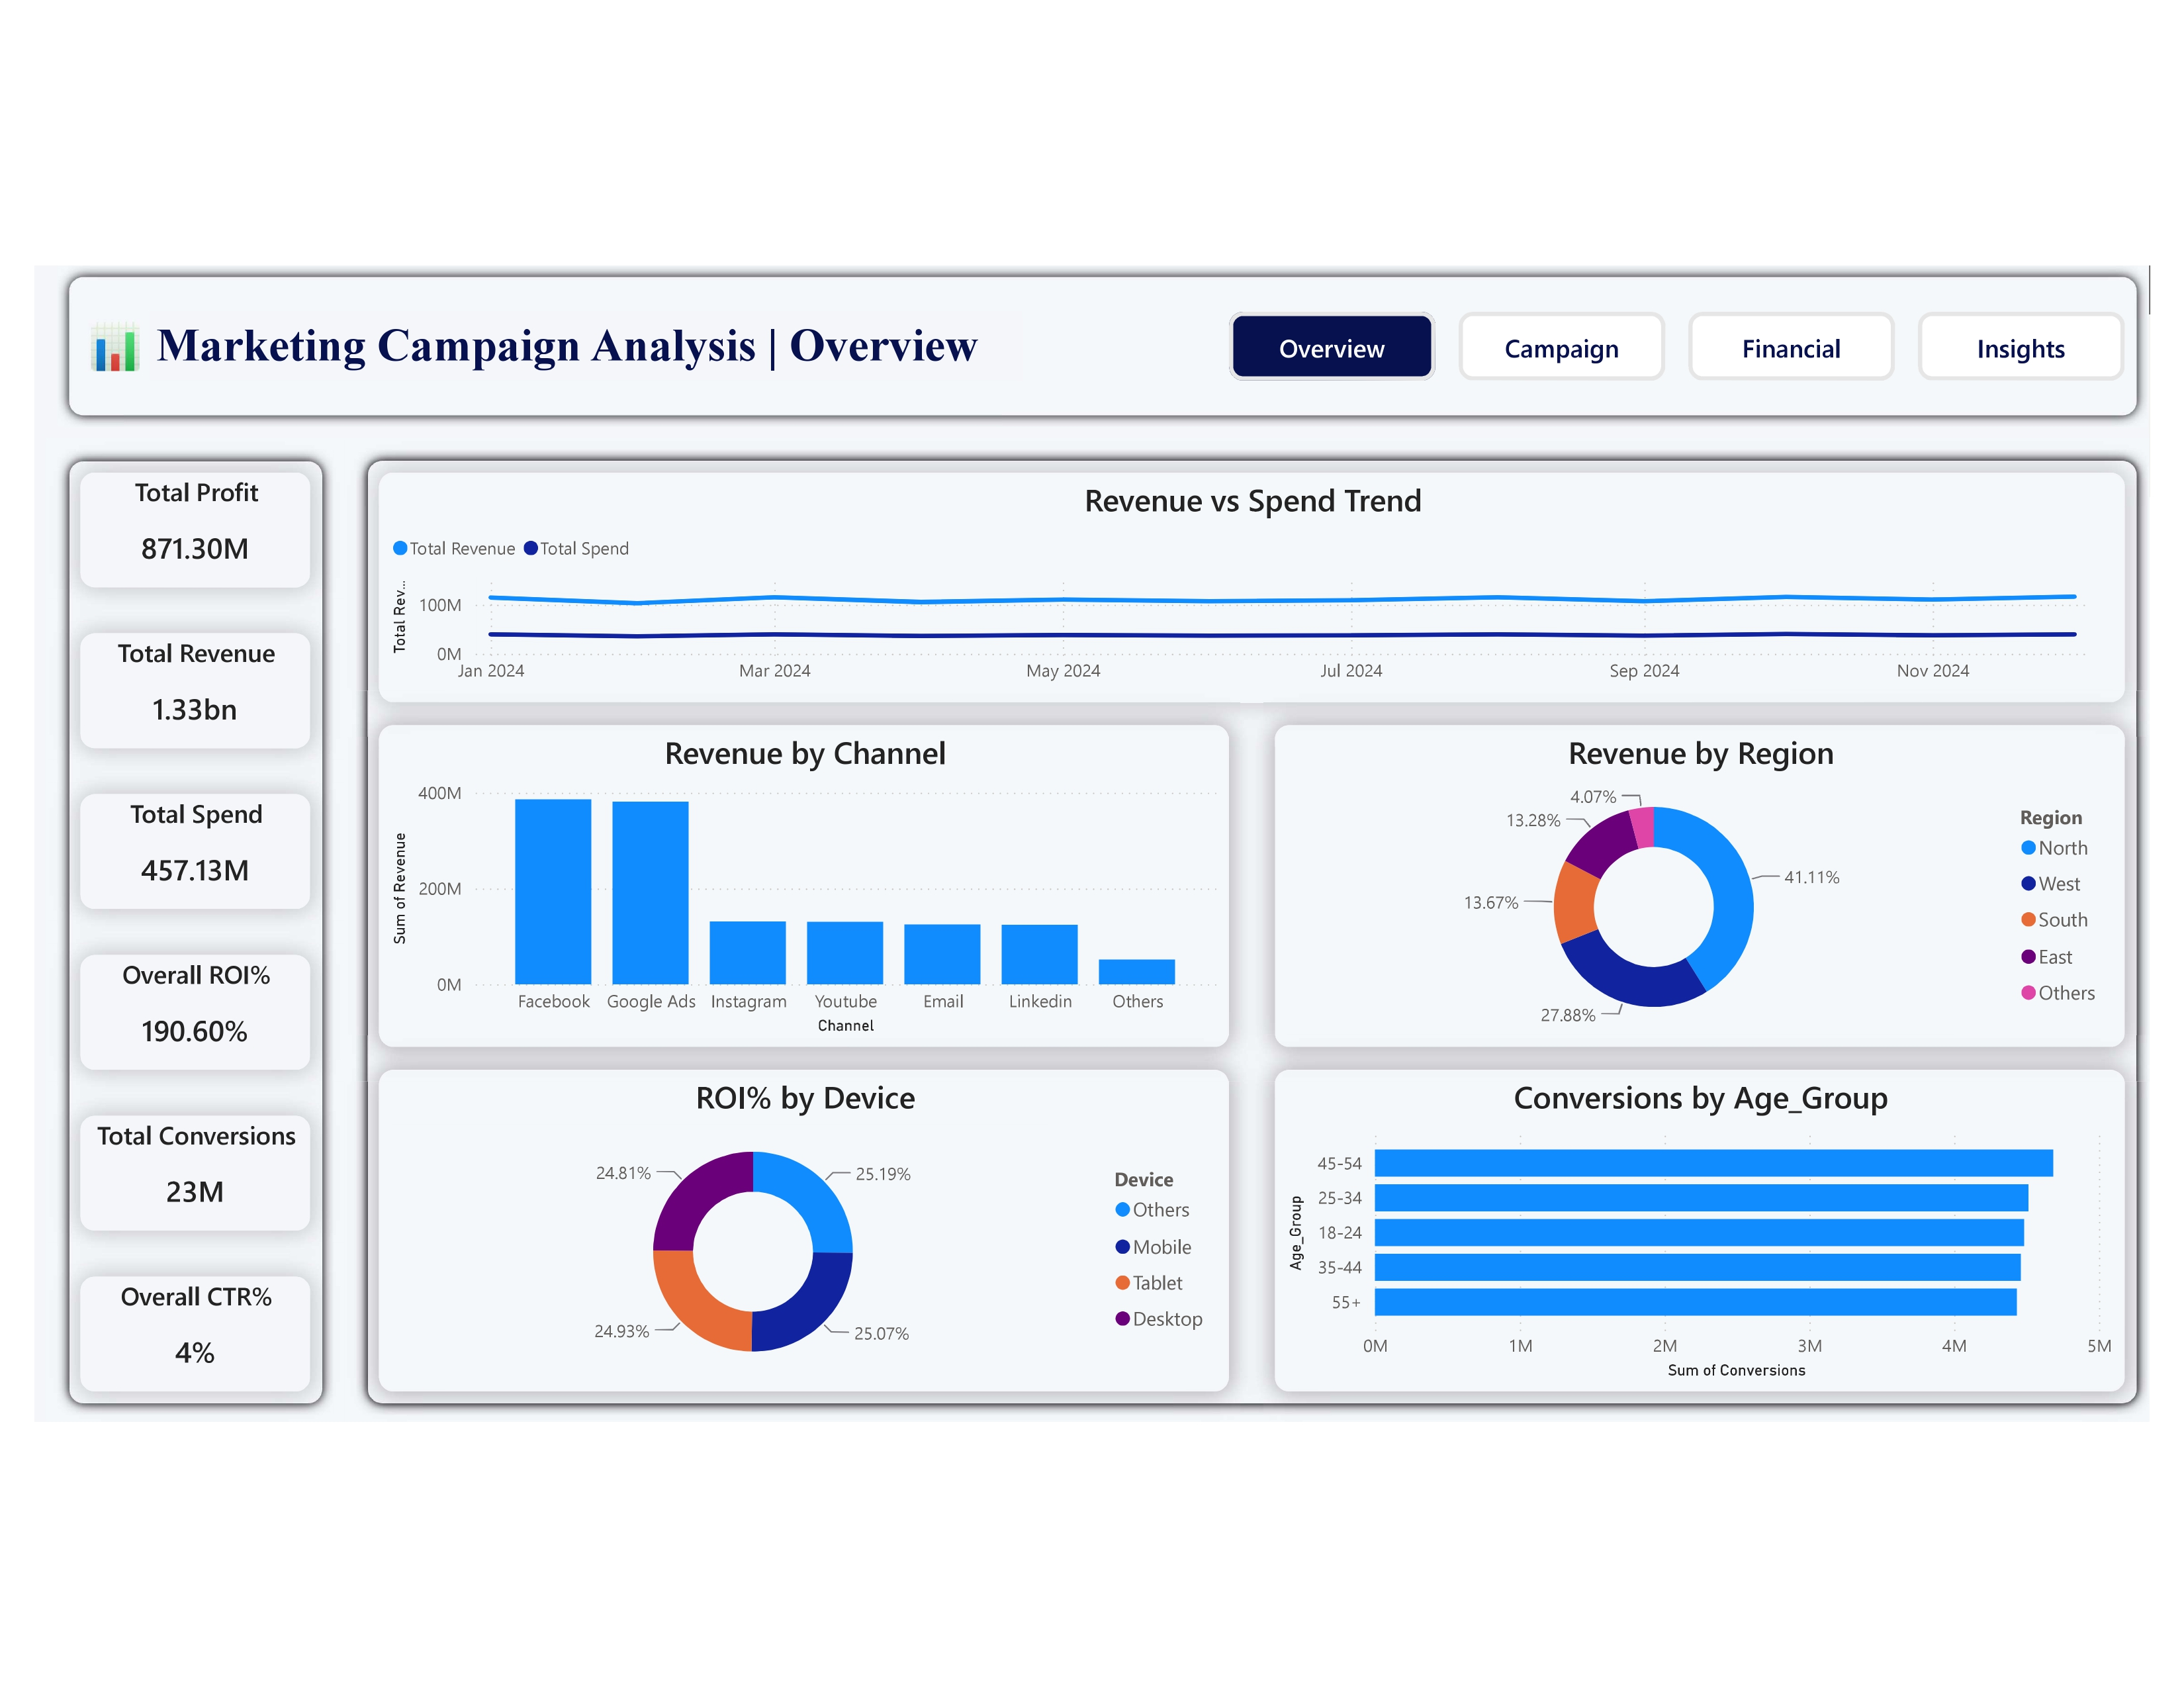

The page's visual inventory and layout, read from the dashboard file:
{"tool":"powerbi","page":{"name":"Executive Overview","canvas":[1473,805],"ordinal":0},"visuals":[{"type":"shape","box":[16,0,1456,112],"z":0},{"type":"textbox","box":[80,32,608,48],"z":1000},{"type":"actionButton","box":[832,32,144,48],"z":2000},{"type":"actionButton","box":[992,32,144,48],"z":3000},{"type":"actionButton","box":[1152,32,144,48],"z":4000},{"type":"shape","box":[16,128,192,672],"z":5000},{"type":"shape","box":[224,128,1248,672],"z":6000},{"type":"cardVisual","title":"Total Profit","fields":{"Data":["Sum(Marketing_Campaign_Cleaned_Fina.Profit)"]},"box":[32,144,160,80],"z":7000},{"type":"cardVisual","title":"Total Revenue","fields":{"Data":["Sum(Marketing_Campaign_Cleaned_Fina.Revenue)"]},"box":[32,256,160,80],"z":8000},{"type":"cardVisual","title":"Total Spend","fields":{"Data":["Sum(Marketing_Campaign_Cleaned_Fina.Spend)"]},"box":[32,368,160,80],"z":9000},{"type":"cardVisual","title":"Overall ROI%","fields":{"Data":["Marketing_Campaign_Cleaned_Fina.Overall ROI%"]},"box":[32,480,160,80],"z":10000},{"type":"cardVisual","title":"Total Conversions","fields":{"Data":["Sum(Marketing_Campaign_Cleaned_Fina.Conversions)"]},"box":[32,592,160,80],"z":11000},{"type":"cardVisual","title":"Overall CTR%","fields":{"Data":["Marketing_Campaign_Cleaned_Fina.CTR %"]},"box":[32,704,160,80],"z":12000},{"type":"lineChart","title":"Revenue vs Spend Trend","fields":{"Y":["Sum(Marketing_Campaign_Cleaned_Fina.Revenue)","Sum(Marketing_Campaign_Cleaned_Fina.Spend)"],"Category":["Marketing_Campaign_Cleaned_Fina.Start_Date.Variation.Date Hierarchy.Year","Marketing_Campaign_Cleaned_Fina.Start_Date.Variation.Date Hierarchy.Month"]},"box":[240,144,1216,160],"z":13000},{"type":"clusteredColumnChart","title":"Revenue by Channel","fields":{"Category":["Marketing_Campaign_Cleaned_Fina.Channel"],"Y":["Sum(Marketing_Campaign_Cleaned_Fina.Revenue)"]},"box":[240,320,592,224],"z":14000},{"type":"donutChart","title":"Revenue by Region","fields":{"Category":["Marketing_Campaign_Cleaned_Fina.Region"],"Y":["Sum(Marketing_Campaign_Cleaned_Fina.Revenue)"]},"box":[864,320,592,224],"z":15000},{"type":"donutChart","title":"ROI% by Device","fields":{"Category":["Marketing_Campaign_Cleaned_Fina.Device"],"Y":["Marketing_Campaign_Cleaned_Fina.Overall ROI%"]},"box":[240,560,592,224],"z":16000},{"type":"clusteredBarChart","title":"Conversions by Age_Group","fields":{"Category":["Marketing_Campaign_Cleaned_Fina.Age_Group"],"Y":["Sum(Marketing_Campaign_Cleaned_Fina.Conversions)"]},"box":[864,560,592,224],"z":17000},{"type":"image","box":[32,32,48,48],"z":18000},{"type":"actionButton","box":[1312,32,144,48],"z":19000}]}

Visuals, with their boxes on the page's 1473x805 design canvas (x1, y1, x2, y2). These are canvas units, not pixel positions in the 2184x1688 screenshot, which may show the page scaled, cropped or inside an application window:
shape: Rect(16, 0, 1472, 112)
textbox: Rect(80, 32, 688, 80)
actionButton: Rect(832, 32, 976, 80)
actionButton: Rect(992, 32, 1136, 80)
actionButton: Rect(1152, 32, 1296, 80)
shape: Rect(16, 128, 208, 800)
shape: Rect(224, 128, 1472, 800)
"Total Profit" cardVisual: Rect(32, 144, 192, 224)
"Total Revenue" cardVisual: Rect(32, 256, 192, 336)
"Total Spend" cardVisual: Rect(32, 368, 192, 448)
"Overall ROI%" cardVisual: Rect(32, 480, 192, 560)
"Total Conversions" cardVisual: Rect(32, 592, 192, 672)
"Overall CTR%" cardVisual: Rect(32, 704, 192, 784)
"Revenue vs Spend Trend" lineChart: Rect(240, 144, 1456, 304)
"Revenue by Channel" clusteredColumnChart: Rect(240, 320, 832, 544)
"Revenue by Region" donutChart: Rect(864, 320, 1456, 544)
"ROI% by Device" donutChart: Rect(240, 560, 832, 784)
"Conversions by Age_Group" clusteredBarChart: Rect(864, 560, 1456, 784)
image: Rect(32, 32, 80, 80)
actionButton: Rect(1312, 32, 1456, 80)
